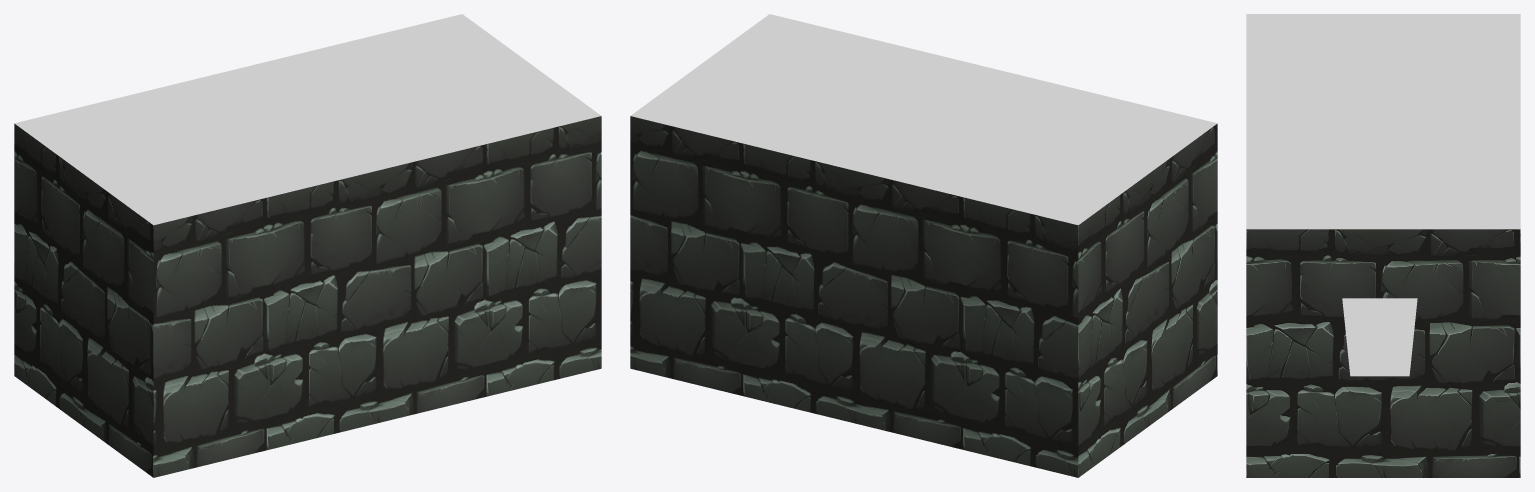
File: Room.fbx
3 renders of one model, left to right at view 1: azimuth 30°, elevation 25°; view 2: azimuth 150°, elevation 25°; view 3: azimuth 270°, elevation 25°, orthographic.
Visible parts, largest first — view 1: Plane.001; view 2: Plane.001; view 3: Plane.001.
Part boxes in pixels (left/top/right/bottom): Plane.001: left=14, top=14, right=601, bottom=477; Plane.001: left=630, top=14, right=1217, bottom=477; Plane.001: left=1246, top=14, right=1520, bottom=477.
Bounding box in the file's own units: 557 × 300 × 300.
